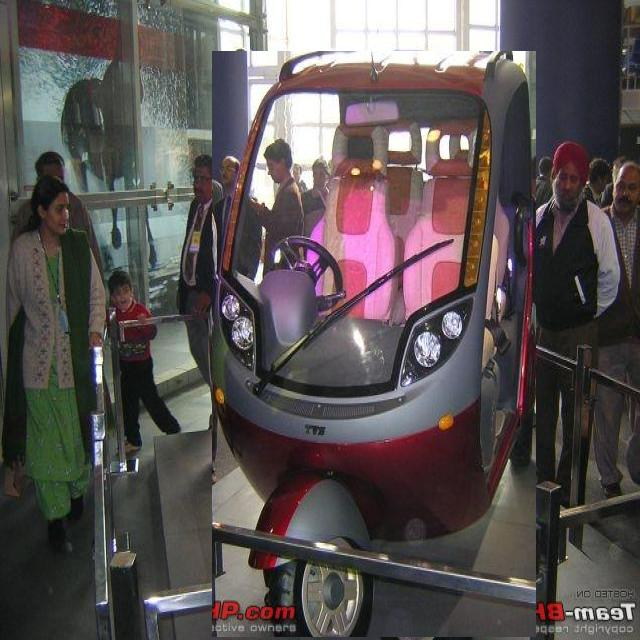autorickshaw: (212, 51, 535, 637)
